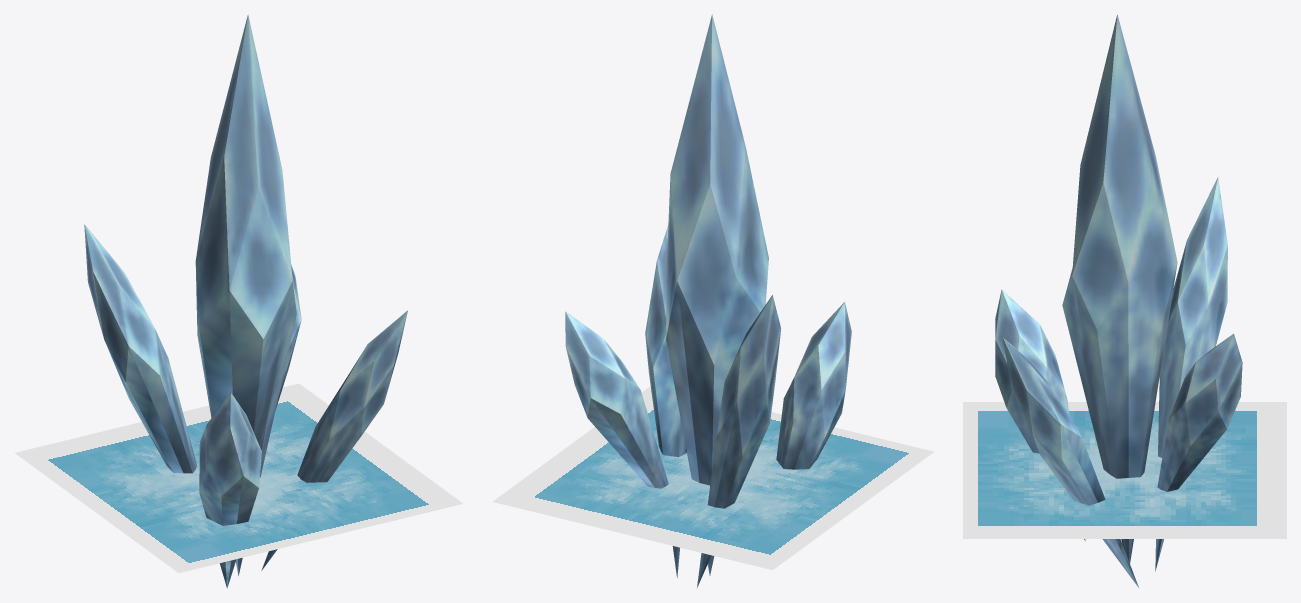
The model's file is effect_qinglong_bb_1.FBX.
3 renders of one model, left to right at view 1: azimuth 30°, elevation 25°; view 2: azimuth 150°, elevation 25°; view 3: azimuth 270°, elevation 25°, orthographic.
Visible parts, largest first — view 1: effect_qinglong_bb_ground, effect_qinglong_bb_1, effect_qinglong_bb_5, effect_qinglong_bb_2, effect_qinglong_bb_3, effect_qinglong_bb_4; view 2: effect_qinglong_bb_ground, effect_qinglong_bb_1, effect_qinglong_bb_5, effect_qinglong_bb_4, effect_qinglong_bb_3, effect_qinglong_bb_2; view 3: effect_qinglong_bb_1, effect_qinglong_bb_ground, effect_qinglong_bb_5, effect_qinglong_bb_4, effect_qinglong_bb_2, effect_qinglong_bb_3.
Part boxes in pixels (left/top/right/bottom): effect_qinglong_bb_ground: left=15, top=383, right=462, bottom=572; effect_qinglong_bb_1: left=195, top=14, right=296, bottom=576; effect_qinglong_bb_5: left=84, top=224, right=197, bottom=473; effect_qinglong_bb_2: left=261, top=310, right=407, bottom=570; effect_qinglong_bb_3: left=199, top=392, right=261, bottom=588; effect_qinglong_bb_4: left=275, top=265, right=301, bottom=410; effect_qinglong_bb_ground: left=492, top=386, right=934, bottom=570; effect_qinglong_bb_1: left=666, top=14, right=768, bottom=576; effect_qinglong_bb_5: left=697, top=295, right=781, bottom=587; effect_qinglong_bb_4: left=565, top=311, right=668, bottom=488; effect_qinglong_bb_3: left=776, top=302, right=851, bottom=469; effect_qinglong_bb_2: left=645, top=225, right=686, bottom=578; effect_qinglong_bb_1: left=1062, top=14, right=1177, bottom=563; effect_qinglong_bb_ground: left=963, top=402, right=1286, bottom=538; effect_qinglong_bb_5: left=1155, top=177, right=1227, bottom=571; effect_qinglong_bb_4: left=1157, top=333, right=1242, bottom=491; effect_qinglong_bb_2: left=1002, top=337, right=1139, bottom=588; effect_qinglong_bb_3: left=995, top=290, right=1085, bottom=541.
Bounding box in the file's own units: 231 × 443 × 231.
